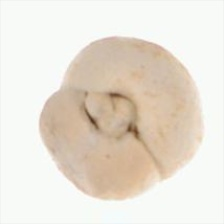L3: (79, 89, 142, 141)
L4: (39, 36, 204, 201)
